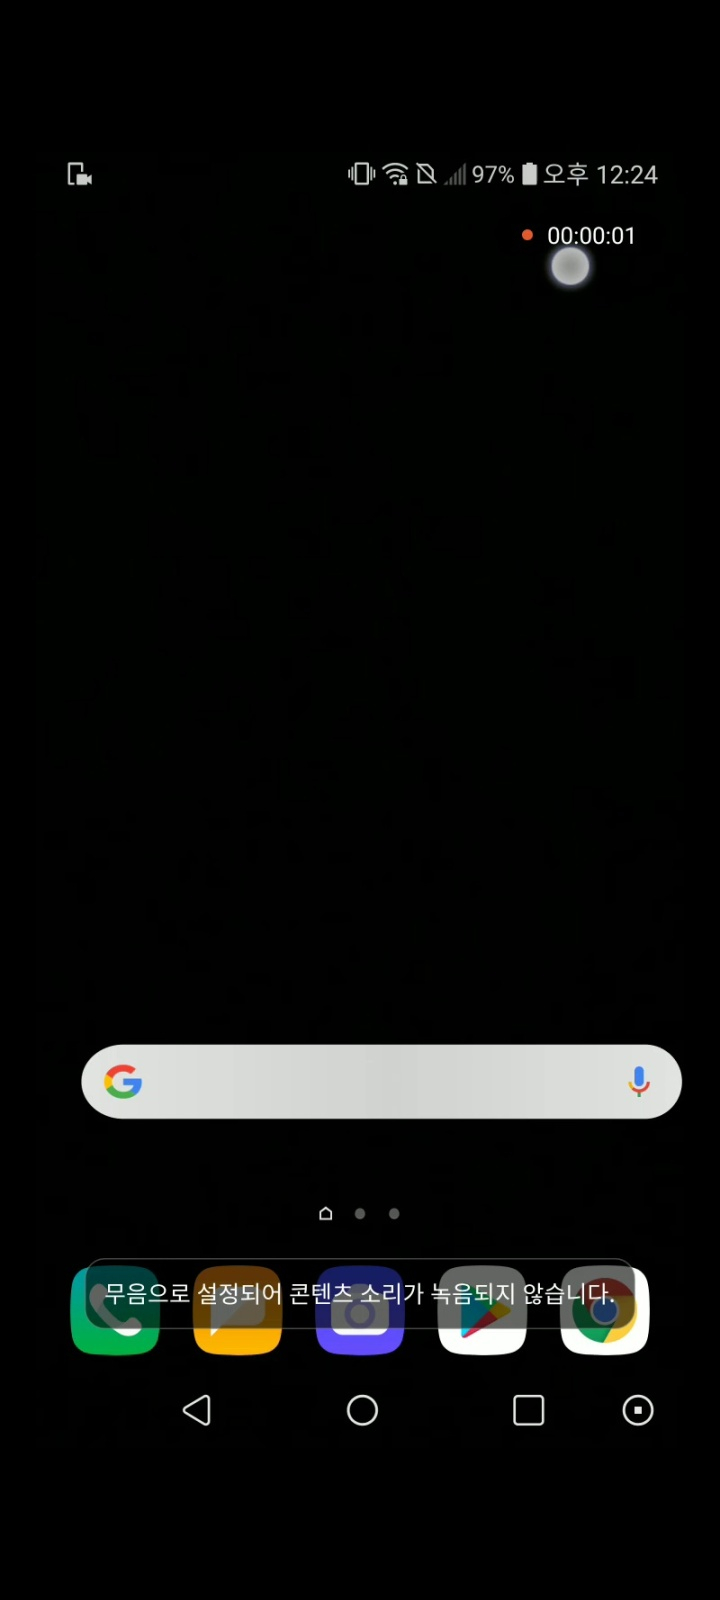Cursor: (549, 245, 594, 290)
